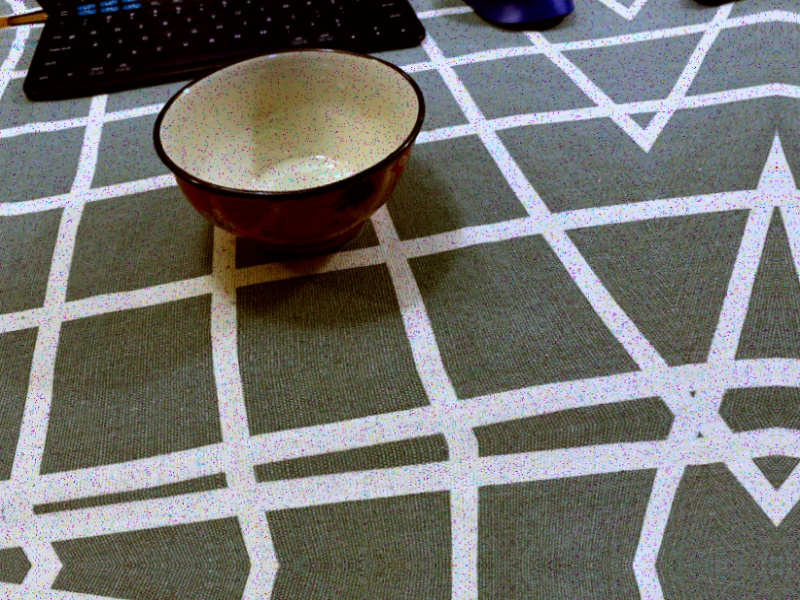bowl_small: (133, 24, 450, 288)
